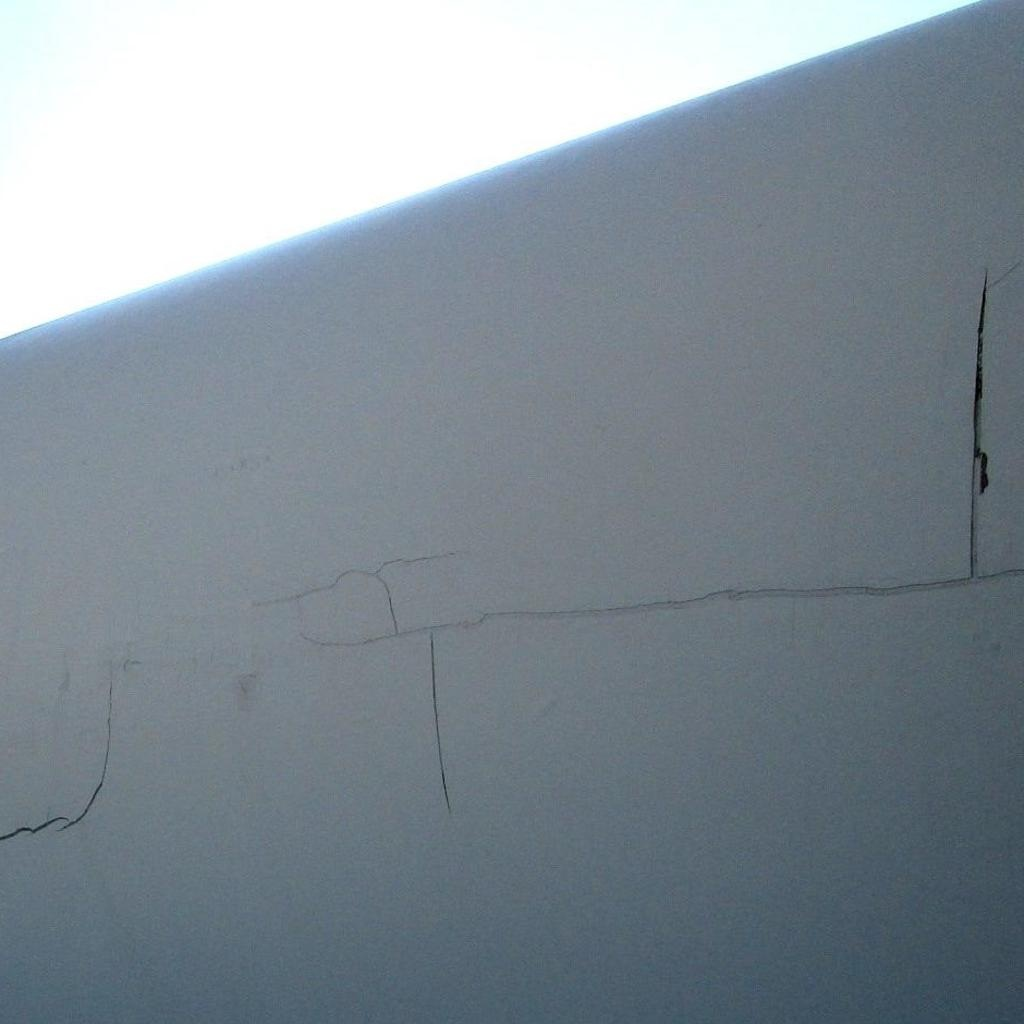hide_craze: (305, 564, 1022, 652), (270, 552, 491, 817), (3, 675, 117, 849), (962, 266, 998, 596)
